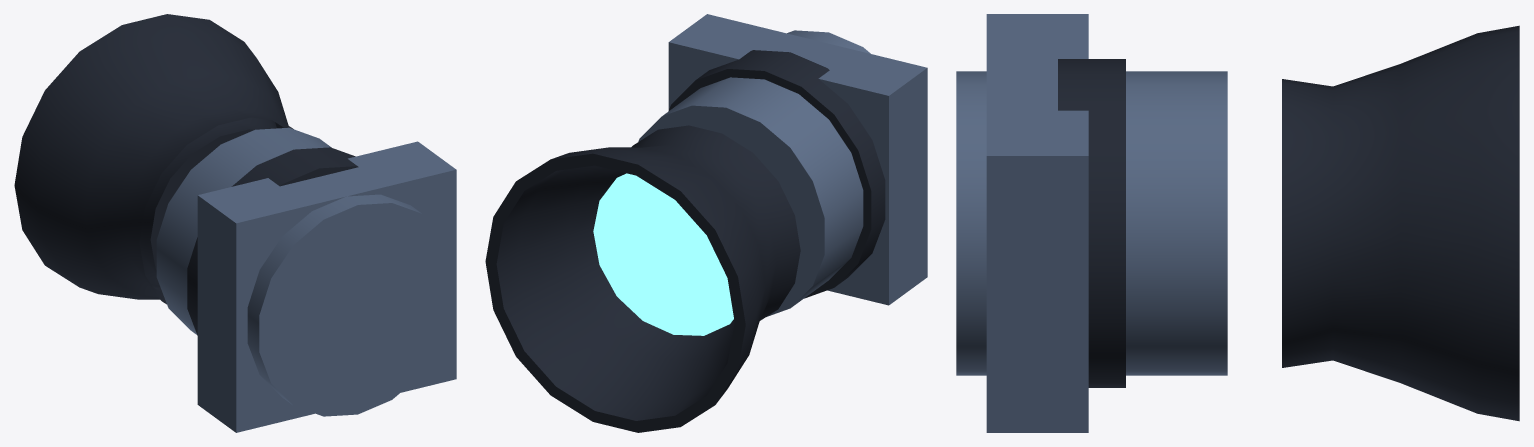
Rendered from mod_motor_peq.fbx.
The picture shows the model from 3 angles, left to right: view 1: azimuth 30°, elevation 25°; view 2: azimuth 150°, elevation 25°; view 3: azimuth 270°, elevation 25°; orthographic projection. The views are drawn at different scales.
Parts seen in each view (by area): view 1: Motor_pequeno; view 2: Motor_pequeno, Motor_pequeno_Neon; view 3: Motor_pequeno.
Boxes of the visible parts, x1,y1,x2,y2 form: Motor_pequeno: [14, 14, 456, 432]; Motor_pequeno: [485, 14, 927, 432]; Motor_pequeno_Neon: [593, 173, 733, 335]; Motor_pequeno: [956, 14, 1519, 432].
Bounding box in the file's own units: 0.6552 × 0.6452 × 0.9296.
